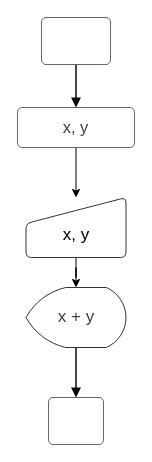
This 152x462 diagram has some shape labels left out. The shapes that lost their labels are listed below. From the top down, each one's centre as x and y in pixels, then its label:
At pixel 75 40: "Início".
At pixel 75 420: "Fim".
